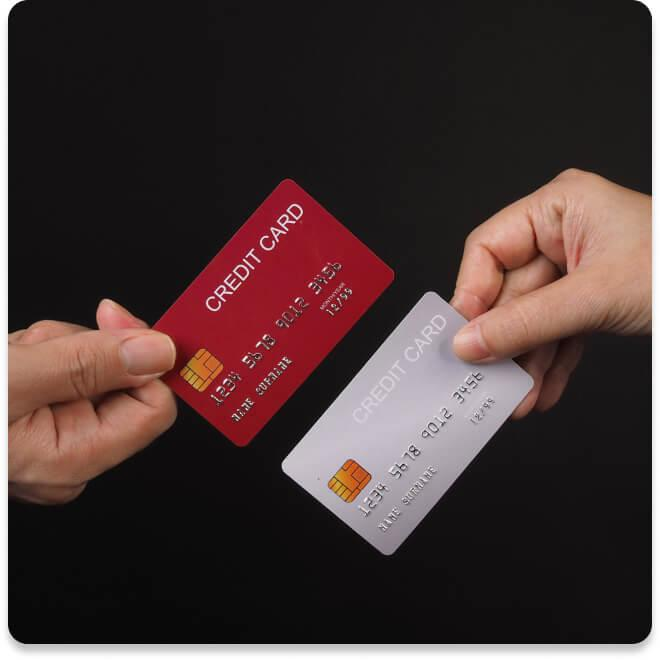Credit_card: (282, 292, 532, 555), (153, 180, 393, 445)
